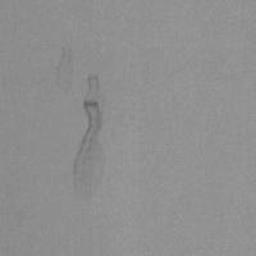Water spot: (72, 72, 118, 204), (54, 27, 76, 99)
